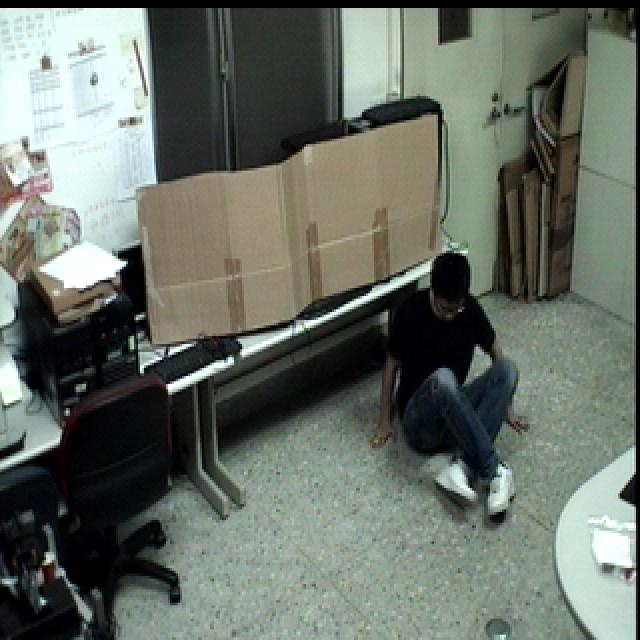sit: (363, 240, 540, 533)
